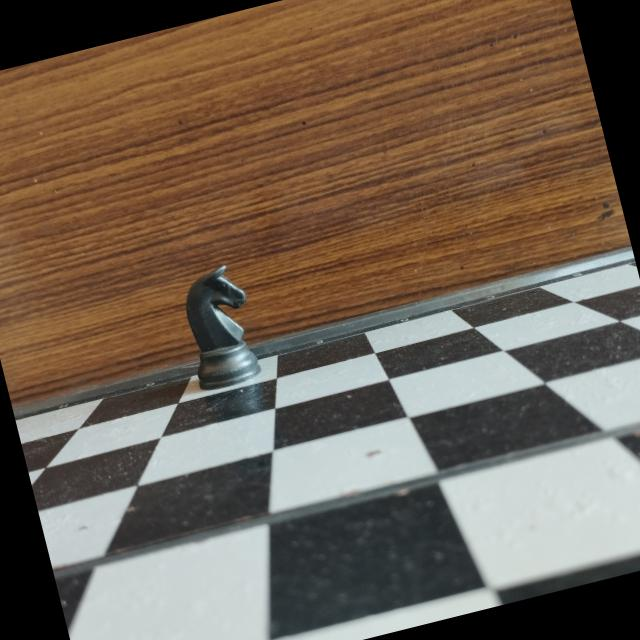Black Knight: (162, 252, 280, 401)
